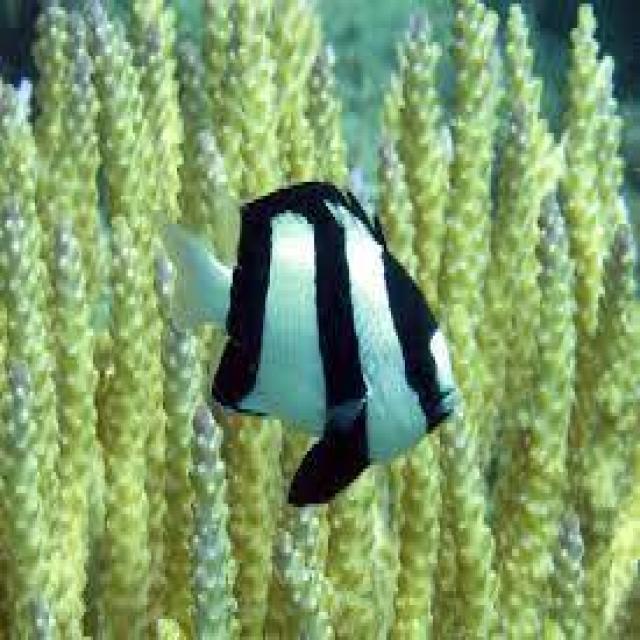Three_striped DasmselFish: (151, 175, 458, 505)
